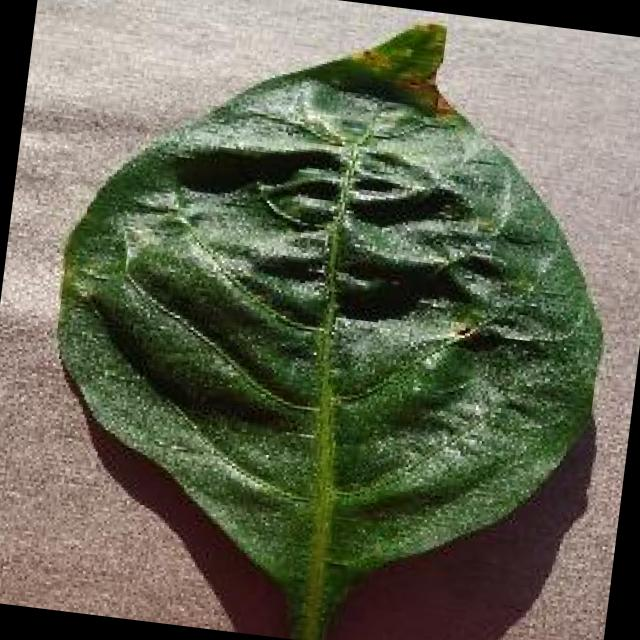Chilli_Bacterial_Spot: (13, 0, 640, 640), (344, 7, 453, 96), (444, 316, 504, 360)
